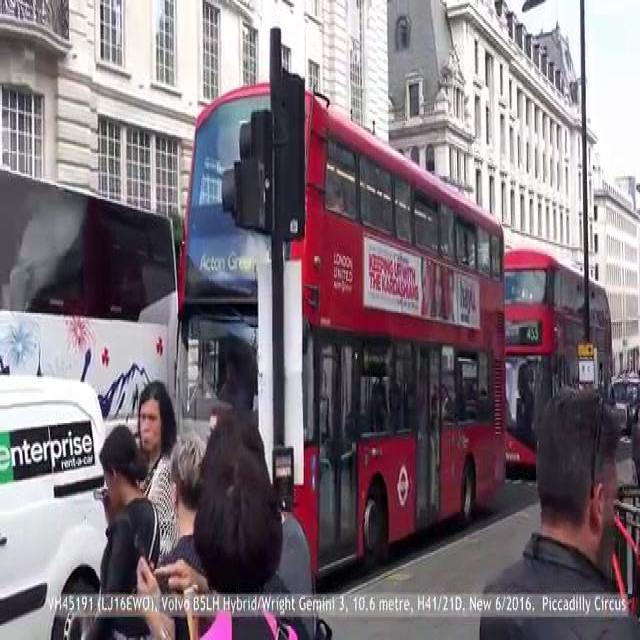motorcycle: (157, 64, 514, 581), (0, 135, 173, 597), (496, 242, 620, 469)
